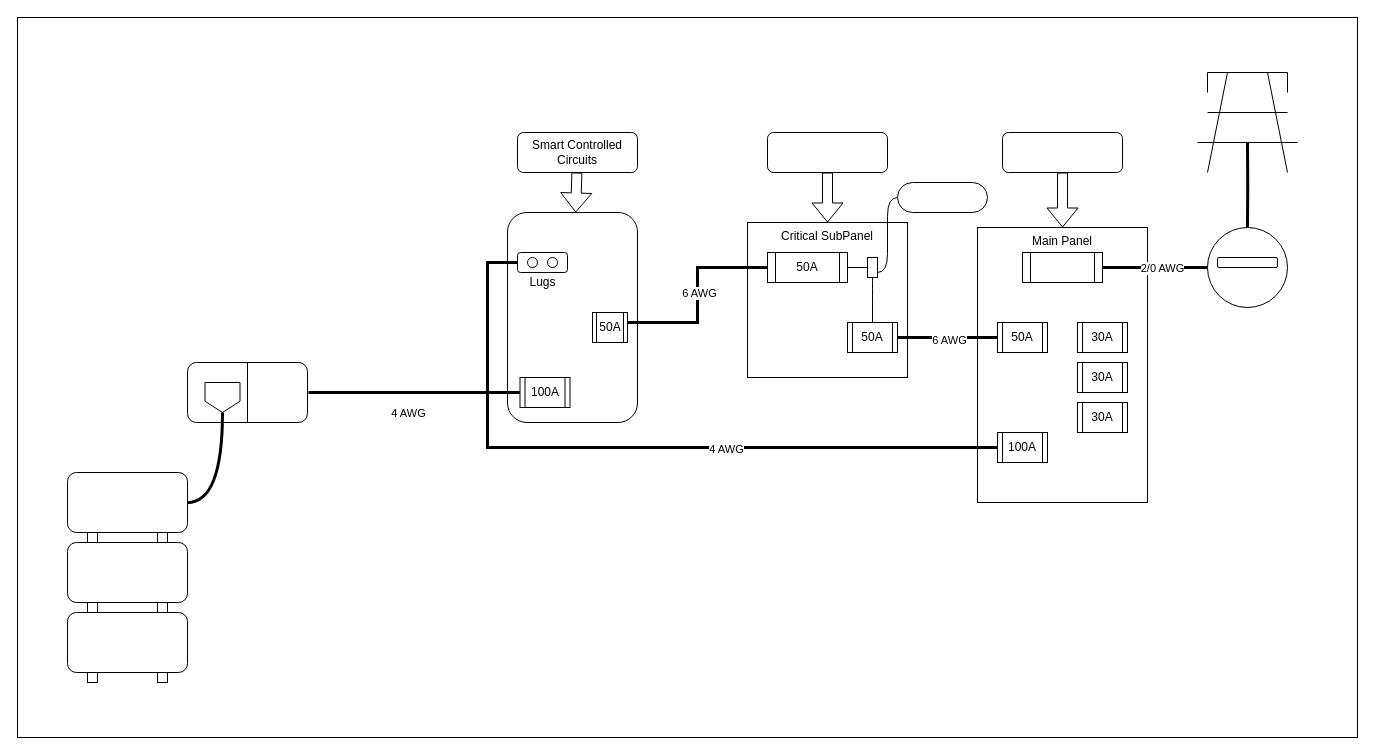
The diagram is 1375 pixels wide and 755 high, and some of its shapes have lost their labels. The shapes that lost their labels are listed below. From the top down, each one's box as (x1, y1, x2, y2) in pixels, then its label:
(766, 132, 888, 172): Critical Circuits
(1002, 132, 1122, 172): Grid Only Circuits
(896, 182, 988, 212): Interlock
(1022, 252, 1102, 282): 200A
(506, 212, 638, 422): Anker E10 PowerDock
(66, 472, 188, 532): Anker E10
